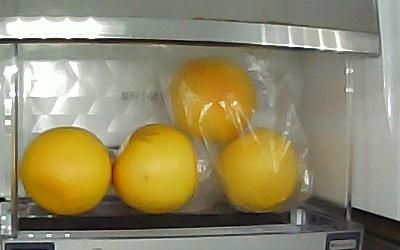grapefruit: (18, 127, 113, 216), (115, 125, 198, 213)
grapefruit_vinyl: (169, 58, 258, 143), (218, 131, 302, 212)
